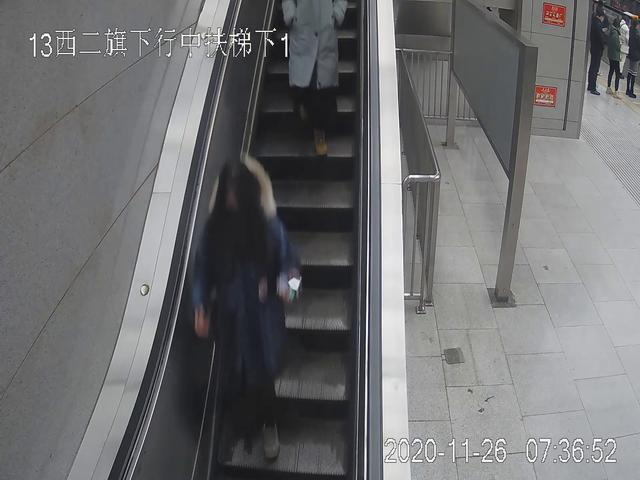person: (191, 158, 303, 470), (278, 1, 349, 158), (588, 7, 606, 94), (607, 19, 627, 94)
